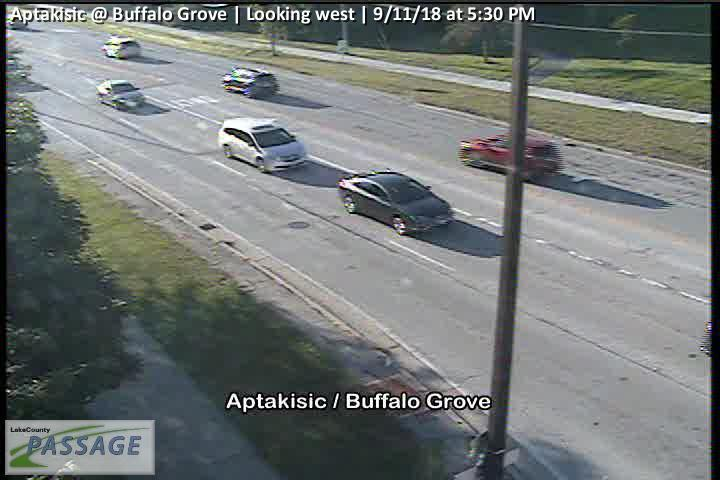Sedan: (336, 169, 453, 235), (458, 129, 561, 180), (218, 117, 306, 172), (221, 67, 277, 97), (95, 80, 144, 109), (103, 37, 140, 59)
